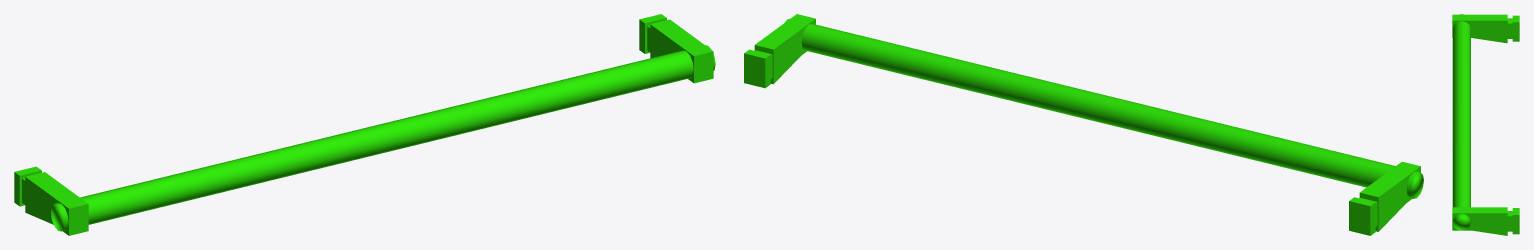
File: Towel_Holder_01.fbx
The picture shows the model from 3 angles, left to right: view 1: azimuth 30°, elevation 25°; view 2: azimuth 150°, elevation 25°; view 3: azimuth 270°, elevation 25°; orthographic projection. The views are drawn at different scales.
Parts seen in each view (by area): view 1: Towel_Holder_01; view 2: Towel_Holder_01; view 3: Towel_Holder_01.
Part boxes in pixels (bbox=[...]): Towel_Holder_01: bbox=[14, 14, 715, 235]; Towel_Holder_01: bbox=[744, 14, 1423, 235]; Towel_Holder_01: bbox=[1452, 14, 1519, 235].
Bounding box in the file's own units: 60.51 × 3.19 × 8.6.
